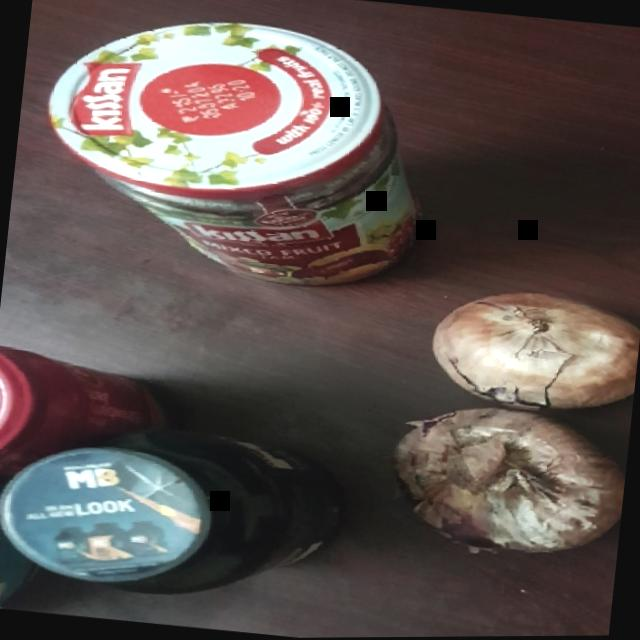onion: (380, 393, 631, 573), (415, 265, 640, 423)
